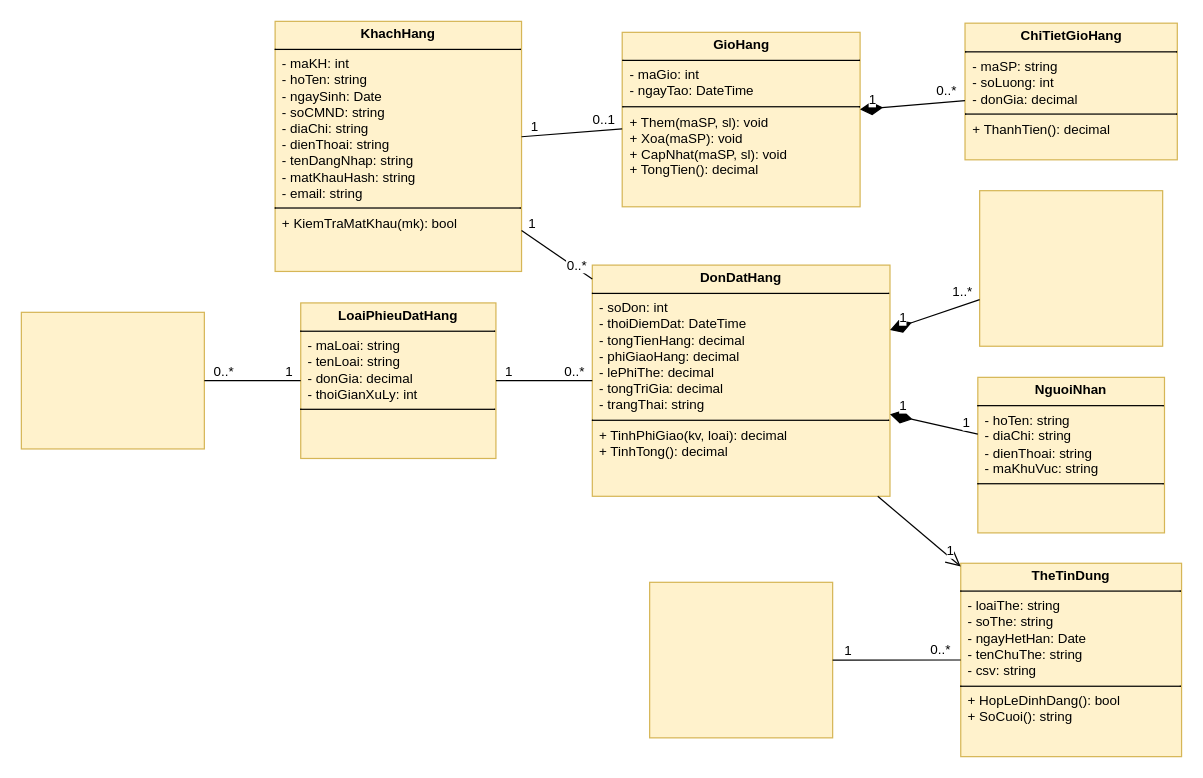
The diagram is 1203 pixels wide and 778 high, and some of its shapes have lost their labels. Here are the shapes that lost their labels. From the top down, the centre of each, then its label:
At [1070,267]: "ChiTietDonHang - maSP: string - tenSP: string - soLuong: int - donGia: decimal".
At [112,380]: "BangPhiGiao - maKhuVuc: string - maLoai: string - phi: decimal".
At [740,659]: "LoaiThe - tenLoai: string - soChuSoThe: int - soChuSoCSV: int - lePhi: decimal".
